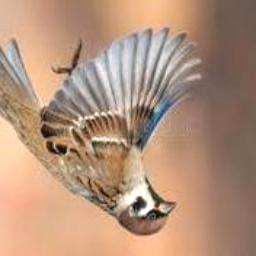Sparrow: (0, 28, 201, 236)
